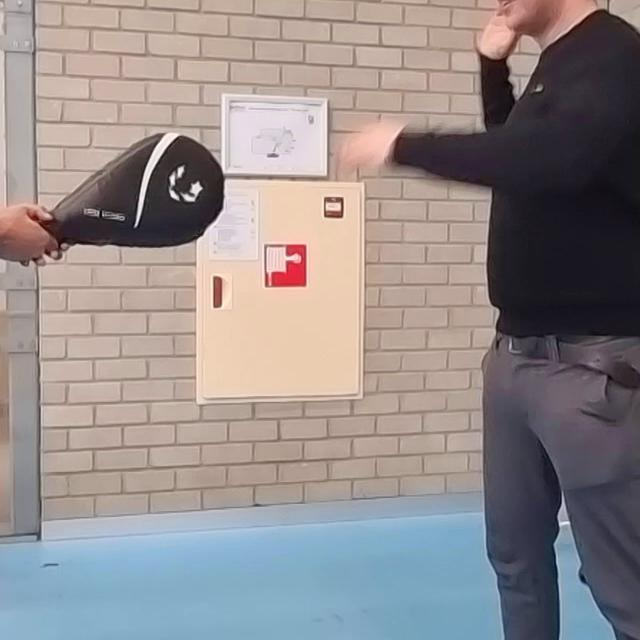paddle: (27, 128, 225, 248)
